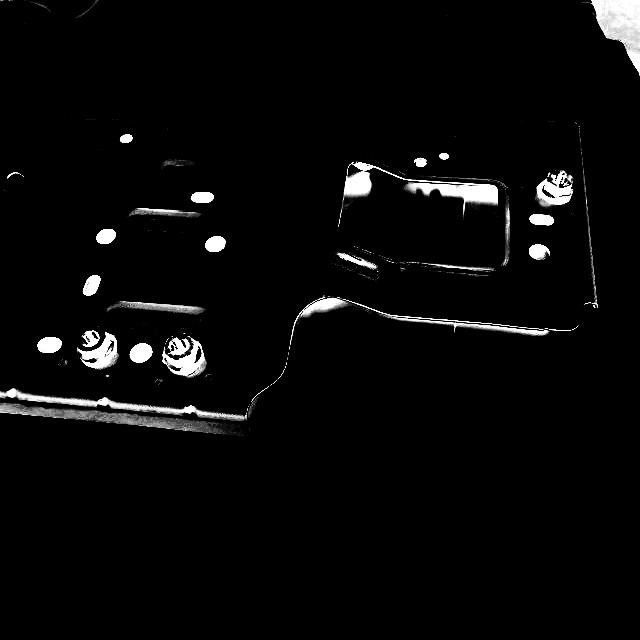dog: (72, 323, 120, 369), (160, 331, 207, 377), (534, 167, 576, 206)
